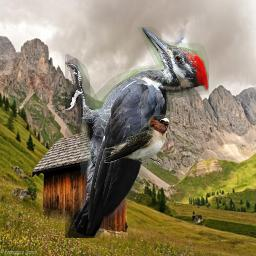Swallow: (102, 113, 173, 165)
Woodpecker: (65, 27, 209, 238)
